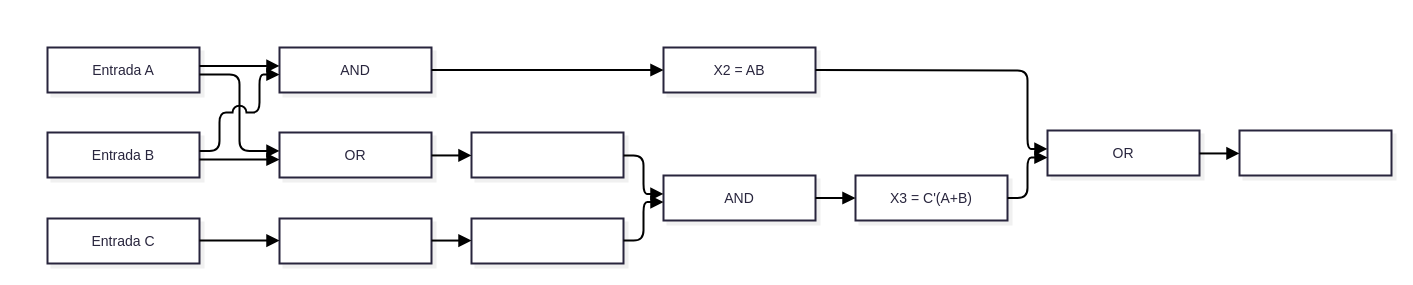
The diagram is 1413 pixels wide and 285 high, and some of its shapes have lost their labels. The centre of each missing label's shape, as x and y in pixels:
"C'" belongs at (x=549, y=242).
"NOT" belongs at (x=357, y=242).
"Salida F" belongs at (x=1317, y=154).
"X1 = A + B" belongs at (x=549, y=156).
